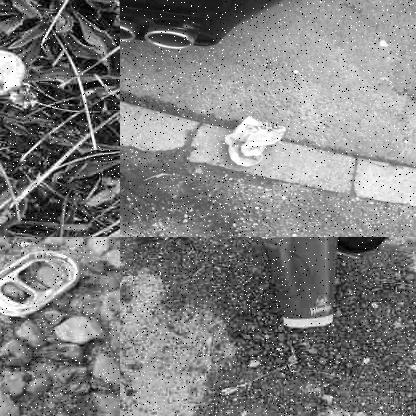metal: (0, 244, 84, 316)
plastic: (258, 237, 345, 332), (224, 117, 286, 166), (0, 45, 27, 98), (333, 237, 386, 254)
